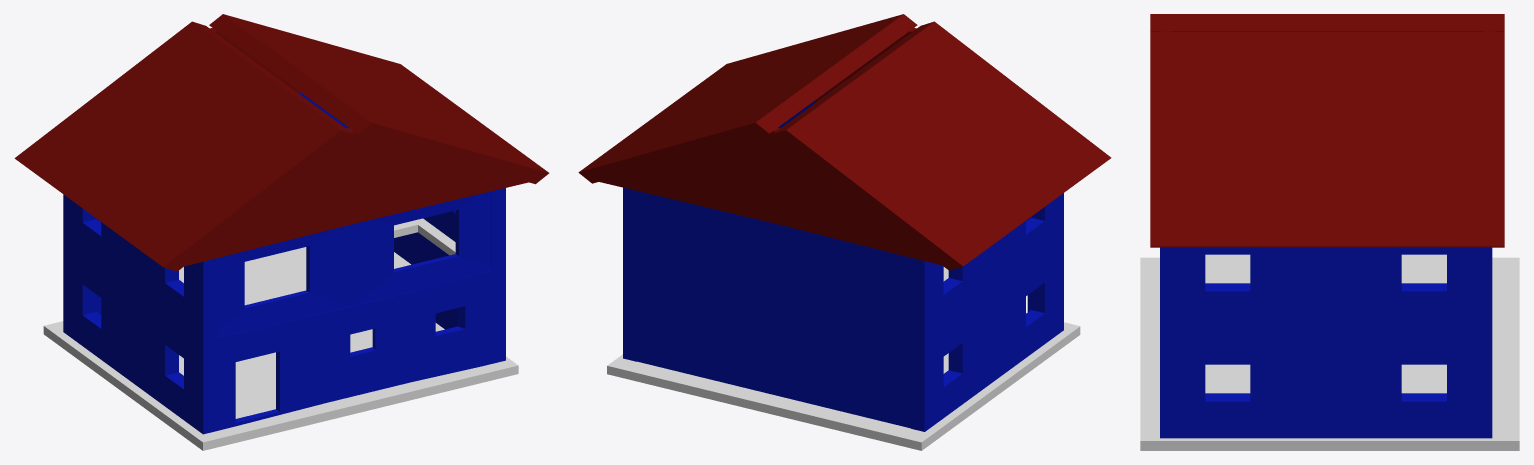
The model's file is casa.fbx.
3 renders of one model, left to right at view 1: azimuth 30°, elevation 25°; view 2: azimuth 150°, elevation 25°; view 3: azimuth 270°, elevation 25°, orthographic. The views are drawn at different scales.
Visible parts, largest first — view 1: Box005, Box007, Box008, Box014; view 2: Box005, Box007, Box008; view 3: Box005, Box007, Box008, Box014.
Part boxes in pixels (left/top/right/bottom): Box005: left=14, top=14, right=549, bottom=271; Box007: left=63, top=92, right=505, bottom=434; Box008: left=43, top=321, right=518, bottom=450; Box014: left=179, top=218, right=455, bottom=305; Box005: left=578, top=14, right=1111, bottom=270; Box007: left=623, top=92, right=1063, bottom=431; Box008: left=607, top=313, right=1080, bottom=450; Box005: left=1150, top=14, right=1504, bottom=247; Box007: left=1160, top=247, right=1492, bottom=438; Box008: left=1140, top=257, right=1519, bottom=450; Box014: left=1205, top=254, right=1446, bottom=283.
Bounding box in the file's own units: 428 × 299 × 306.
